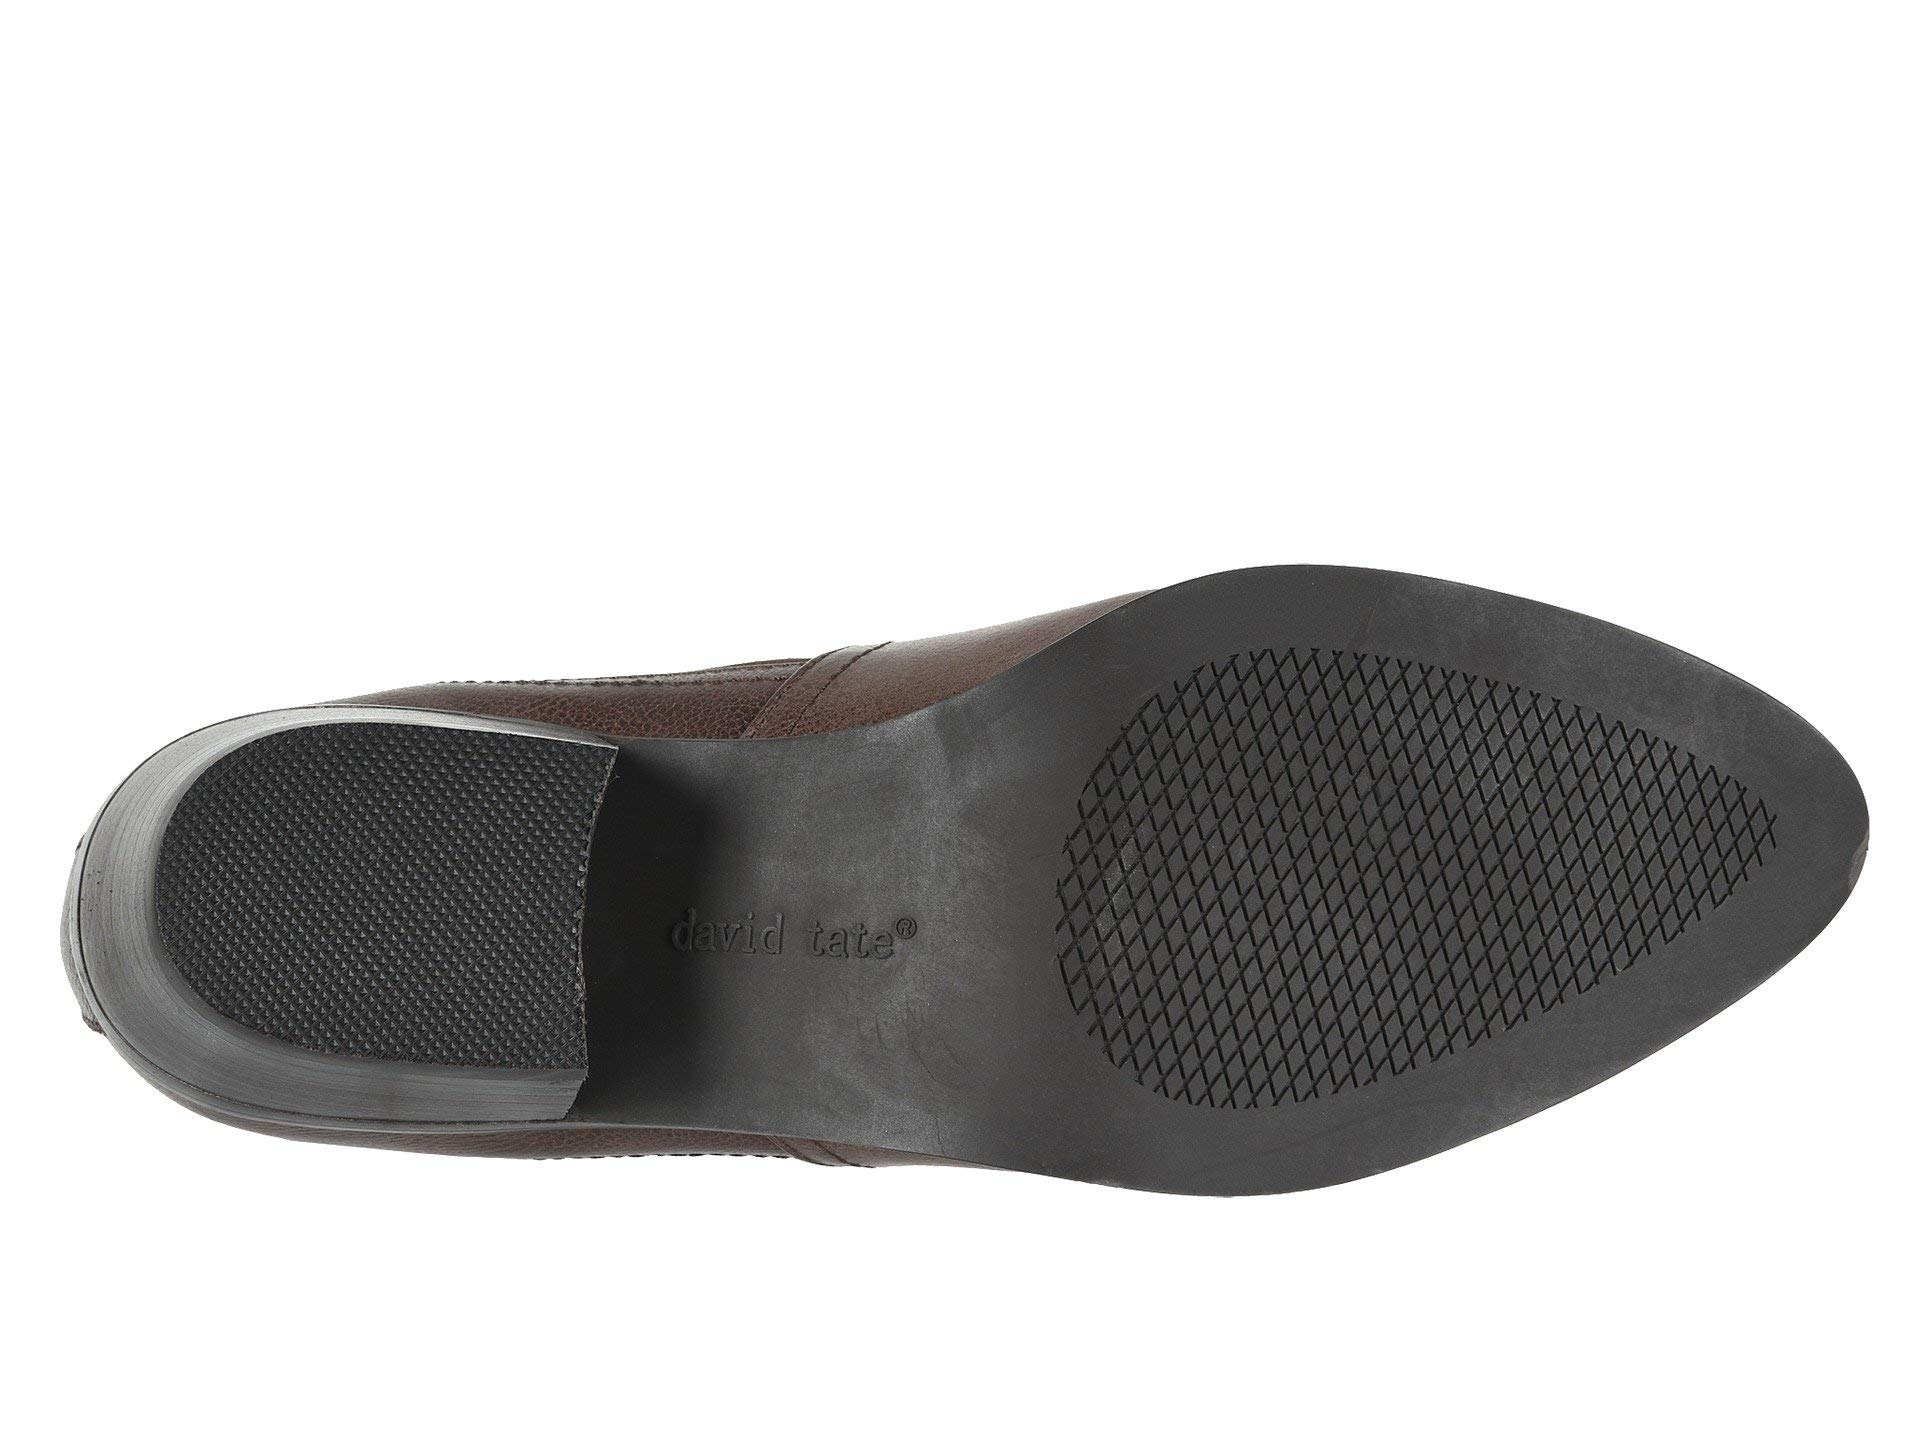quad: (1149, 684, 1619, 1006), (252, 756, 535, 1026)
